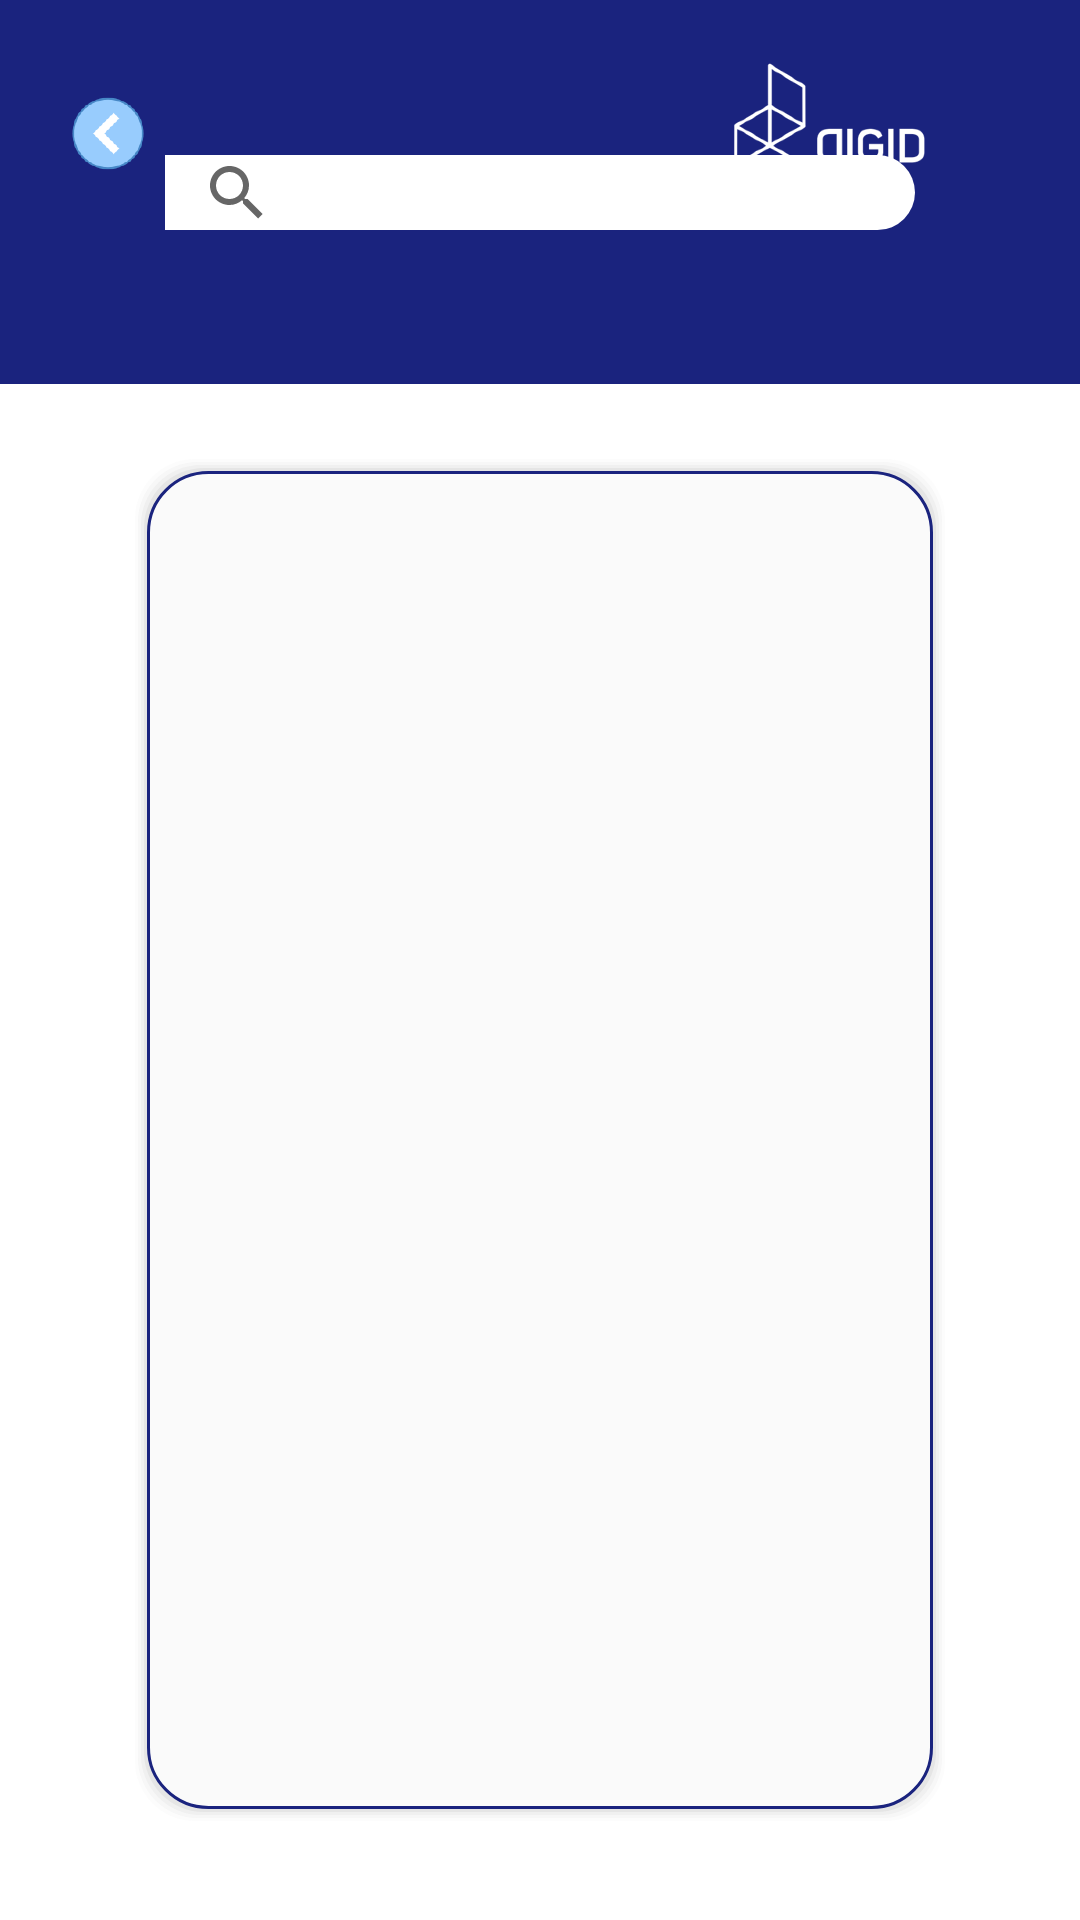

Icon bounding boxes for this 1080*1920 phone screenshot, format rect(x1, y1, x2, y2):
iconback: rect(72, 98, 144, 169)
